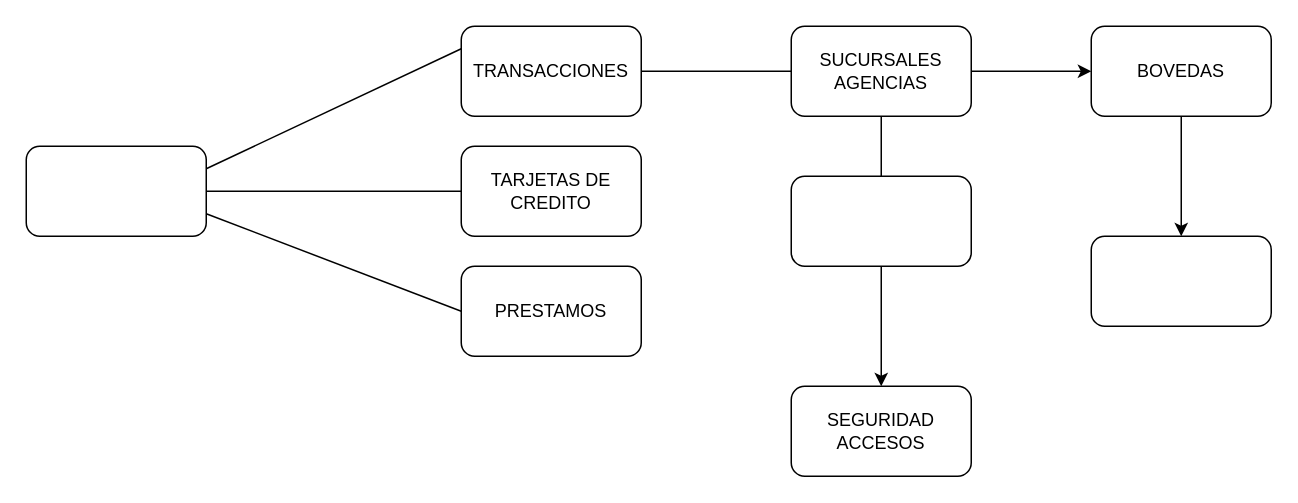
Some shapes in this 1298 by 503 pixel diagram are drawn without their labels. Each missing label, with the centre of its shape:
"CLIENTES" belongs at point 115,190.
"EMPLEADO" belongs at point 880,220.
"TRANSACCIONES INTERBANCARIAS" belongs at point 1180,280.
